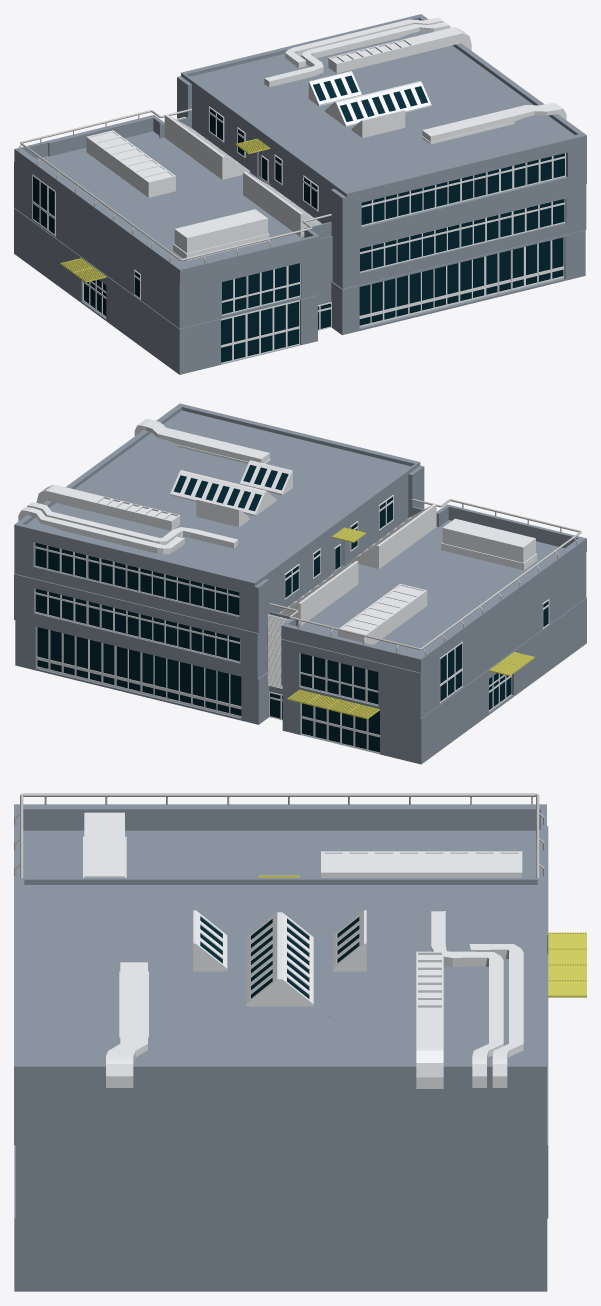
The picture shows the model from 3 angles, top to bottom: view 1: azimuth 30°, elevation 25°; view 2: azimuth 150°, elevation 25°; view 3: azimuth 270°, elevation 25°; orthographic projection. The views are drawn at different scales.
Parts seen in each view (by area): view 1: P3, Plane, P1, D UP, D DOWN, VENTANAS 3 D.002, VENTANAS 3 D, VENTANAS 3 D.001, WINDOW.003, WINDOW.001, barandal, W FRONT (+2 smaller); view 2: P3, Plane, P1, D UP, D DOWN, VENTANAS 3 L.002, VENTANAS 3 L.001, VENTANAS 3 L, WINDOW.004, WINDOW.002, barandal, W FRONT (+3 smaller); view 3: P3, Plane, P1, D UP, D DOWN, barandal, side 1 cell.
Boxes of the visible parts, x1,y1,x2,y2 form: P3: [14, 14, 586, 283]; Plane: [14, 162, 586, 328]; P1: [14, 208, 585, 374]; D UP: [264, 17, 566, 144]; D DOWN: [86, 114, 321, 260]; VENTANAS 3 D.002: [359, 237, 564, 327]; VENTANAS 3 D: [360, 198, 565, 272]; VENTANAS 3 D.001: [361, 153, 565, 225]; WINDOW.003: [221, 300, 299, 363]; WINDOW.001: [222, 263, 300, 315]; barandal: [18, 108, 331, 263]; W FRONT: [208, 106, 318, 211]; P3: [14, 403, 586, 672]; Plane: [14, 552, 586, 718]; P1: [15, 597, 586, 764]; D UP: [18, 419, 292, 554]; D DOWN: [279, 503, 537, 644]; VENTANAS 3 L.002: [36, 626, 241, 717]; VENTANAS 3 L.001: [34, 542, 239, 616]; VENTANAS 3 L: [34, 588, 240, 662]; WINDOW.004: [300, 653, 378, 705]; WINDOW.002: [301, 703, 379, 753]; barandal: [269, 498, 581, 656]; W FRONT: [284, 495, 393, 599]; P3: [14, 804, 546, 1145]; Plane: [15, 826, 548, 1218]; P1: [14, 1145, 547, 1291]; D UP: [106, 910, 523, 1088]; D DOWN: [83, 812, 522, 877]; barandal: [14, 793, 544, 877]; side 1 cell: [548, 932, 586, 997].
Size of the model in its own units: 4018 by 1365 by 2832.
